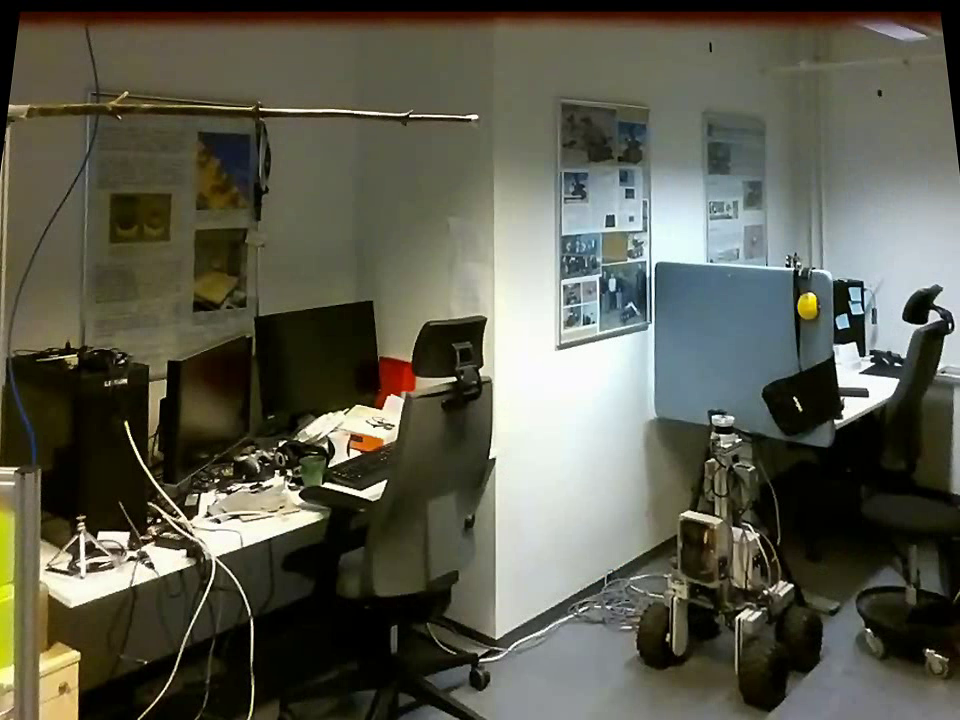aluminum_frame: (9, 462, 45, 718)
branch: (34, 84, 461, 134)
